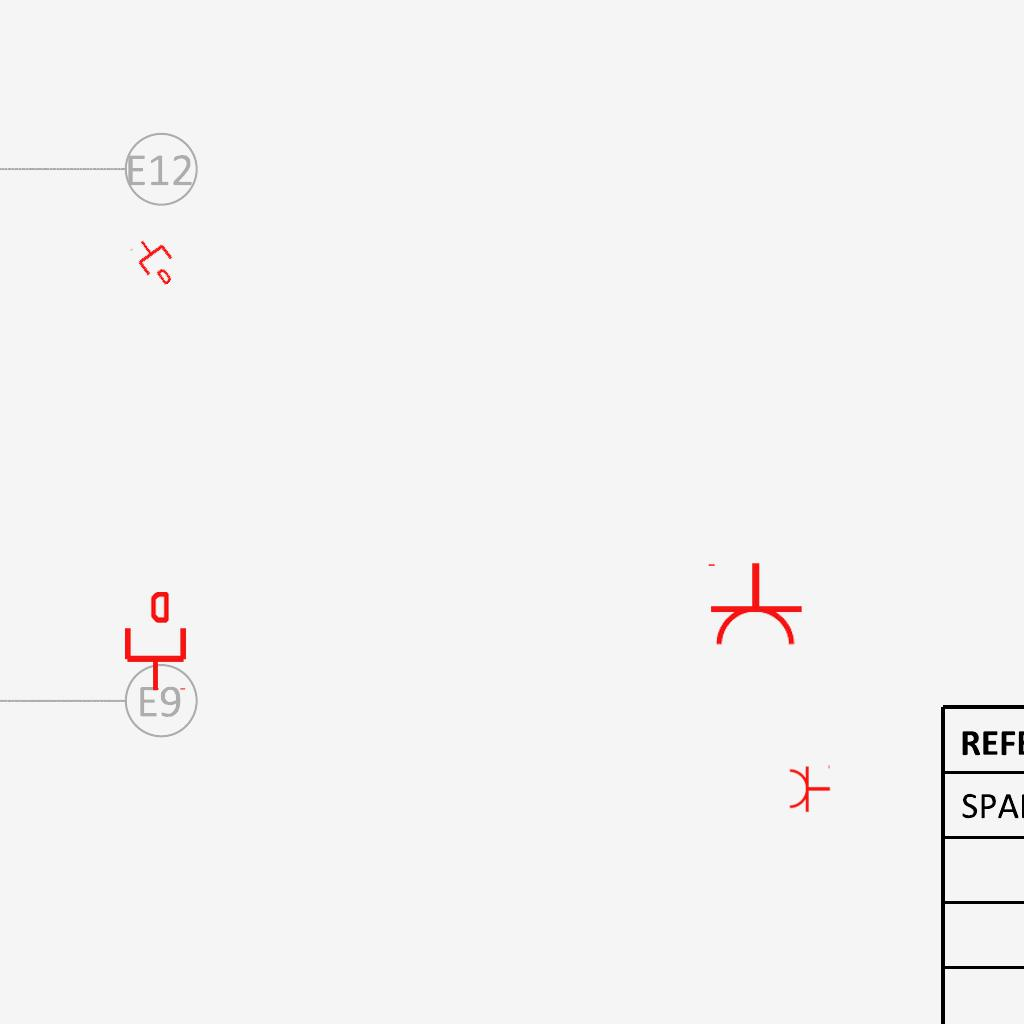Datenanschluss_einfach: (121, 592, 190, 692), (127, 230, 185, 292)
Schukosteckdose_einfach: (704, 561, 804, 648), (788, 763, 831, 813)
